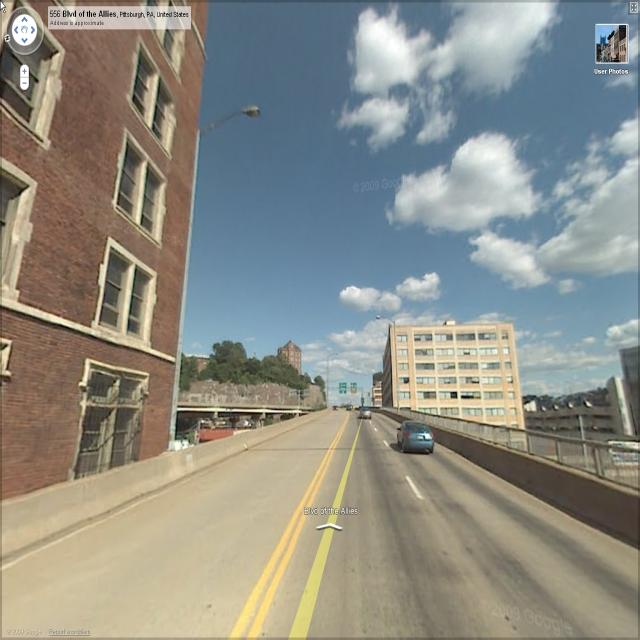b_1: (1, 8, 186, 448), (385, 316, 529, 458), (368, 363, 392, 420), (280, 330, 306, 375)
